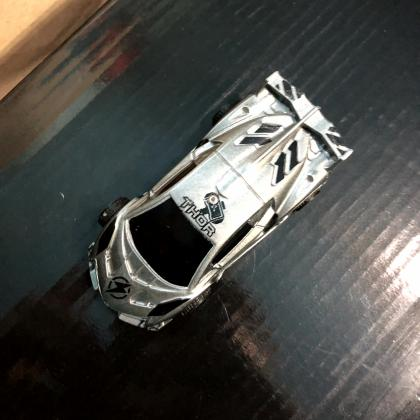Car: (88, 73, 351, 333)
